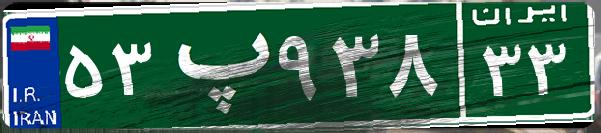3: (330, 28, 385, 110), (475, 38, 525, 113), (110, 28, 158, 105), (525, 38, 570, 115)
5: (57, 26, 110, 107)
8: (385, 28, 445, 110)
9: (273, 28, 330, 110)
پ: (158, 15, 273, 115)
